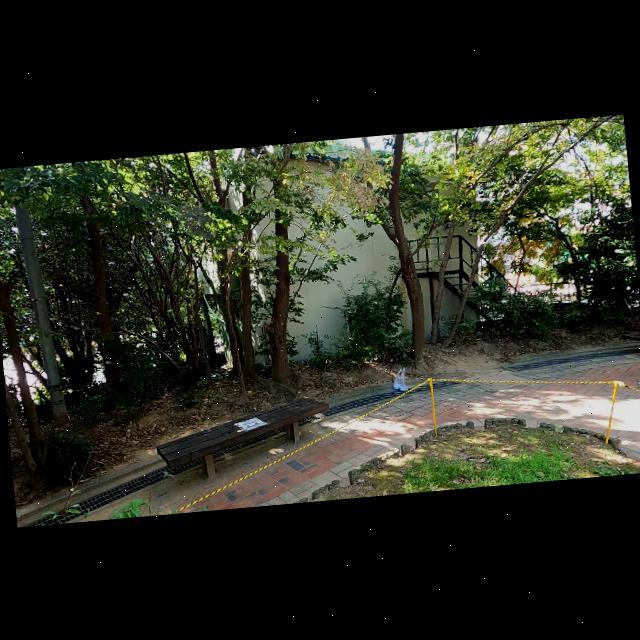trash: (390, 364, 411, 394)
